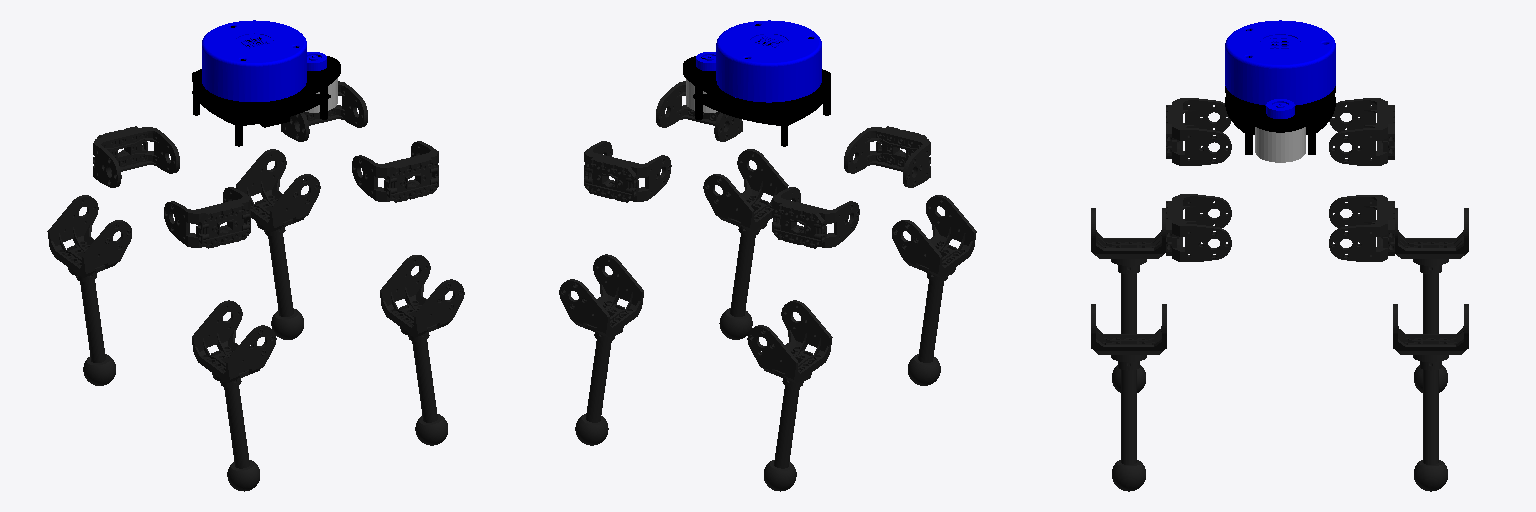
--- What the picture shows (computed from the rendered views, not written in the file) ---
The picture shows the robot from 3 angles, left to right: view 1: azimuth 30°, elevation 25°; view 2: azimuth 150°, elevation 25°; view 3: azimuth 270°, elevation 25°; orthographic projection.
Model anggada with 24 links and 23 joints (12 revolute, 11 fixed), rooted at base_link, posed every joint at zero.
Visible links, largest first — view 1: lidar_frame, rf_lower_leg_link, lh_lower_leg_link, rh_lower_leg_link, lf_lower_leg_link, lh_hip_link, rf_hip_link, rh_hip_link, lf_hip_link; view 2: lidar_frame, lf_lower_leg_link, rh_lower_leg_link, lh_lower_leg_link, rf_lower_leg_link, lf_hip_link, rh_hip_link, lh_hip_link, rf_hip_link; view 3: lidar_frame, lf_lower_leg_link, rf_lower_leg_link, lf_hip_link, rf_hip_link, lh_hip_link, rh_hip_link, rh_lower_leg_link, lh_lower_leg_link.
Link boxes in pixels (x1,y1,x2,y2): lidar_frame: [192, 20, 340, 146]; rf_lower_leg_link: [380, 255, 464, 445]; lh_lower_leg_link: [47, 195, 131, 385]; rh_lower_leg_link: [192, 300, 276, 491]; lf_lower_leg_link: [236, 149, 320, 339]; lh_hip_link: [93, 126, 179, 187]; rf_hip_link: [352, 141, 438, 202]; rh_hip_link: [164, 187, 250, 248]; lf_hip_link: [281, 81, 367, 141]; lidar_frame: [683, 20, 830, 146]; lf_lower_leg_link: [559, 254, 643, 445]; rh_lower_leg_link: [892, 195, 976, 385]; lh_lower_leg_link: [747, 300, 832, 491]; rf_lower_leg_link: [703, 149, 788, 339]; lf_hip_link: [584, 141, 671, 202]; rh_hip_link: [844, 126, 930, 187]; lh_hip_link: [772, 187, 859, 248]; rf_hip_link: [656, 81, 742, 141]; lidar_frame: [1225, 20, 1335, 162]; lf_lower_leg_link: [1393, 304, 1468, 491]; rf_lower_leg_link: [1091, 304, 1166, 491]; lf_hip_link: [1329, 195, 1394, 261]; rf_hip_link: [1166, 194, 1231, 261]; lh_hip_link: [1329, 98, 1394, 165]; rh_hip_link: [1166, 98, 1231, 165]; rh_lower_leg_link: [1091, 208, 1165, 392]; lh_lower_leg_link: [1395, 208, 1468, 392].
Size in the robot's own frame: 0.1949 by 0.2395 by 0.2745 metres.
9 mesh visuals loaded from 6 distinct referenced files (3 Collada DAE); not drawn: 5 (reference not matched to a file when rendering).

The robot description file, URDF, robot "anggada":
<?xml version="1.0" encoding="utf-8"?>
<!-- =================================================================================== -->
<!-- |    This document was autogenerated by xacro from anggada.urdf.xacro             | -->
<!-- |    EDITING THIS FILE BY HAND IS NOT RECOMMENDED                                 | -->
<!-- =================================================================================== -->
<robot name="anggada">
  <material name="black">
    <color rgba="0.15 0.15 0.15 1.0"/>
  </material>
  <link name="base_link">
    <collision>
      <origin rpy="0 0 0" xyz="0 0 0"/>
      <geometry>
        <mesh filename="package://anggada_description/meshes/base.dae"/>
      </geometry>
    </collision>
    <visual>
      <origin rpy="0 0 0" xyz="0 0 0"/>
      <geometry>
        <mesh filename="package://anggada_description/meshes/base.dae"/>
      </geometry>
      <material name="black"/>
    </visual>
  </link>
  <link name="base_inertia">
    <inertial>
      <origin xyz="0 0 0"/>
      <mass value="0.4"/>
      <inertia ixx="0.00144546666667" ixy="0.0" ixz="0.0" iyy="0.00172213333333" iyz="0.0" izz="0.000500933333333"/>
    </inertial>
  </link>
  <joint name="base_link_to_base_inertia" type="fixed">
    <parent link="base_link"/>
    <child link="base_inertia"/>
    <origin rpy="0 0 0" xyz="0 0 0"/>
  </joint>
  <gazebo reference="base_link">
    <material>Gazebo/FlatBlack</material>
  </gazebo>
  <!-- Init colour -->
  <material name="dark">
    <color rgba="0.3 0.3 0.3 1.0"/>
  </material>
  <material name="light_black">
    <color rgba="0.4 0.4 0.4 1.0"/>
  </material>
  <material name="blue">
    <color rgba="0.0 0.0 0.8 1.0"/>
  </material>
  <material name="green">
    <color rgba="0.0 0.8 0.0 1.0"/>
  </material>
  <material name="grey">
    <color rgba="0.5 0.5 0.5 1.0"/>
  </material>
  <material name="orange">
    <color rgba="1.0 0.423529411765 0.0392156862745 1.0"/>
  </material>
  <material name="brown">
    <color rgba="0.870588235294 0.811764705882 0.764705882353 1.0"/>
  </material>
  <material name="red">
    <color rgba="0.8 0.0 0.0 1.0"/>
  </material>
  <material name="white">
    <color rgba="1.0 1.0 1.0 1.0"/>
  </material>
  <gazebo reference="lidar_frame">
    <material>Gazebo/FlatBlack</material>
    <sensor name="rplidar_a1m8" type="ray">
      <pose>0 0 0 0 0 0</pose>
      <visualize>true</visualize>
      <update_rate>5.5</update_rate>
      <ray>
        <scan>
          <horizontal>
            <samples>8000</samples>
            <resolution>0</resolution>
            <min_angle>0.0</min_angle>
            <max_angle>6.28319</max_angle>
          </horizontal>
        </scan>
        <range>
          <min>0.150</min>
          <max>10</max>
          <resolution>0.02</resolution>
        </range>
        <noise>
          <type>gaussian</type>
          <mean>0.0</mean>
          <stddev>0.01</stddev>
        </noise>
      </ray>
      <plugin filename="libgazebo_ros_laser.so" name="gazebo_ros_rplidar_a1m8">
        <topicName>scan</topicName>
        <frameName>lidar_frame</frameName>
      </plugin>
    </sensor>
  </gazebo>
  <joint name="scan_joint" type="fixed">
    <parent link="base_link"/>
    <child link="lidar_frame"/>
    <origin rpy="0 0 0" xyz="0 0 0.077"/>
  </joint>
  <link name="lidar_frame">
    <visual>
      <origin rpy="0 0 0" xyz="0 0 -0.077"/>
      <geometry>
        <mesh filename="package://anggada_description/meshes/ydlidar_x4.dae"/>
      </geometry>
    </visual>
    <collision>
      <origin rpy="0 0 0" xyz="-0.007 0 0"/>
      <geometry>
        <cylinder length="0.0315" radius="0.035"/>
      </geometry>
      <material name="dark"/>
    </collision>
    <inertial>
      <mass value="0.114"/>
      <origin xyz="0 0 0"/>
      <inertia ixx="0.001" ixy="0.0" ixz="0.0" iyy="0.001" iyz="0.0" izz="0.001"/>
    </inertial>
  </link>
  <gazebo>
    <plugin filename="libhector_gazebo_ros_imu.so" name="imu_controller">
      <robotNamespace>/</robotNamespace>
      <updateRate>50.0</updateRate>
      <bodyName>imu_link</bodyName>
      <topicName>imu/data</topicName>
      <accelDrift>0.005 0.005 0.005</accelDrift>
      <accelGaussianNoise>0.005 0.005 0.005</accelGaussianNoise>
      <rateDrift>0.005 0.005 0.005 </rateDrift>
      <rateGaussianNoise>0.005 0.005 0.005 </rateGaussianNoise>
      <headingDrift>0.005</headingDrift>
      <headingGaussianNoise>0.005</headingGaussianNoise>
    </plugin>
  </gazebo>
  <link name="imu_link">
    <inertial>
      <mass value="0.001"/>
      <origin rpy="0 0 0" xyz="0 0 0"/>
      <inertia ixx="1e-09" ixy="0.0" ixz="0.0" iyy="1e-09" iyz="0.0" izz="1e-09"/>
    </inertial>
  </link>
  <joint name="imu_joint" type="fixed">
    <parent link="base_link"/>
    <child link="imu_link"/>
  </joint>
  <link name="lf_hip_debug_link"/>
  <link name="lf_hip_link">
    <inertial>
      <mass value="0.01"/>
      <inertia ixx="3.39541666667e-06" ixy="0.0" ixz="0.0" iyy="2.48104166667e-06" iyz="0.0" izz="1.95604166667e-06"/>
    </inertial>
    <collision>
      <origin rpy="0 0 -3.14159" xyz="0 0 0"/>
      <geometry>
        <mesh filename="package://anggada_description/meshes/hip.dae"/>
      </geometry>
    </collision>
    <visual>
      <origin rpy="0 0 -3.14159" xyz="0 0 0"/>
      <geometry>
        <mesh filename="package://anggada_description/meshes/hip.dae"/>
      </geometry>
      <material name="black"/>
    </visual>
  </link>
  <gazebo reference="lf_hip_link">
    <material>Gazebo/FlatBlack</material>
  </gazebo>
  <link name="lf_upper_leg_link">
    <inertial>
      <origin xyz="0 0 -0.03225"/>
      <mass value="0.12"/>
      <inertia ixx="9.51641e-05" ixy="0.0" ixz="0.0" iyy="4.27241e-05" iyz="0.0" izz="0.00010244"/>
    </inertial>
    <collision>
      <origin rpy="0 0 0" xyz="0 0 0"/>
      <geometry>
        <mesh filename="package://anggada_description/meshes/left_upper_leg.dae"/>
      </geometry>
    </collision>
    <visual>
      <origin rpy="0 0 0" xyz="0 0 0"/>
      <geometry>
        <mesh filename="package://anggada_description/meshes/left_upper_leg.dae"/>
      </geometry>
      <material name="black"/>
    </visual>
  </link>
  <gazebo reference="lf_upper_leg_link">
    <material>Gazebo/FlatBlack</material>
  </gazebo>
  <link name="lf_lower_leg_link">
    <inertial>
      <origin xyz="0 0 -0.09285"/>
      <mass value="0.049"/>
      <inertia ixx="1.10768807633e-05" ixy="0.0" ixz="0.0" iyy="1.59212841667e-05" iyz="0.0" izz="6.33576326333e-06"/>
    </inertial>
    <collision>
      <origin rpy="0 0 0" xyz="0 0 0"/>
      <geometry>
        <mesh filename="package://anggada_description/meshes/lower_leg.dae"/>
      </geometry>
    </collision>
    <visual>
      <origin rpy="0 0 0" xyz="0 0 0"/>
      <geometry>
        <mesh filename="package://anggada_description/meshes/lower_leg.dae"/>
      </geometry>
      <material name="black"/>
    </visual>
  </link>
  <gazebo reference="lf_lower_leg_link">
    <kp>1000000.0</kp>
    <kd>1.0</kd>
    <mu1>0.8</mu1>
    <mu2>0.8</mu2>
    <maxVel>0.0</maxVel>
    <minDepth>0.001</minDepth>
    <material>Gazebo/FlatBlack</material>
  </gazebo>
  <link name="lf_foot_link"/>
  <joint name="lf_debug_joint" type="fixed">
    <parent link="base_link"/>
    <child link="lf_hip_debug_link"/>
    <origin rpy="0 0 0" xyz="0.074 0.04177 0"/>
  </joint>
  <joint name="lf_hip_joint" type="revolute">
    <axis xyz="1 0 0"/>
    <limit effort="25" lower="-0.68" upper="0.68" velocity="1.5"/>
    <parent link="base_link"/>
    <child link="lf_hip_link"/>
    <origin rpy="0 0 0" xyz="0.074 0.04177 0"/>
  </joint>
  <joint name="lf_upper_leg_joint" type="revolute">
    <axis xyz="0 1 0"/>
    <limit effort="25" lower="-3.14159265359" upper="3.14159265359" velocity="1.5"/>
    <parent link="lf_hip_link"/>
    <child link="lf_upper_leg_link"/>
    <origin rpy="0 0 0" xyz="0 0.052 0"/>
  </joint>
  <joint name="lf_lower_leg_joint" type="revolute">
    <axis xyz="0 1 0"/>
    <limit effort="25" lower="-2.84" upper="0.54" velocity="1.5"/>
    <parent link="lf_upper_leg_link"/>
    <child link="lf_lower_leg_link"/>
    <origin rpy="0 0 0" xyz="0 0.0015 -0.0645"/>
  </joint>
  <joint name="lf_foot_joint" type="fixed">
    <parent link="lf_lower_leg_link"/>
    <child link="lf_foot_link"/>
    <origin rpy="0 0 0" xyz="0 0 -0.118"/>
  </joint>
  <transmission name="lf_hip_joint_trans">
    <type>transmission_interface/SimpleTransmission</type>
    <joint name="lf_hip_joint">
      <hardwareInterface>hardware_interface/EffortJointInterface</hardwareInterface>
    </joint>
    <actuator name="lf_hip_joint_motor">
      <hardwareInterface>hardware_interface/EffortJointInterface</hardwareInterface>
      <mechanicalReduction>1</mechanicalReduction>
    </actuator>
  </transmission>
  <transmission name="lf_upper_leg_joint_trans">
    <type>transmission_interface/SimpleTransmission</type>
    <joint name="lf_upper_leg_joint">
      <hardwareInterface>hardware_interface/EffortJointInterface</hardwareInterface>
    </joint>
    <actuator name="lf_upper_leg_joint_motor">
      <hardwareInterface>hardware_interface/EffortJointInterface</hardwareInterface>
      <mechanicalReduction>1</mechanicalReduction>
    </actuator>
  </transmission>
  <transmission name="lf_lower_leg_joint_trans">
    <type>transmission_interface/SimpleTransmission</type>
    <joint name="lf_lower_leg_joint">
      <hardwareInterface>hardware_interface/EffortJointInterface</hardwareInterface>
    </joint>
    <actuator name="lf_lower_joint_motor">
      <hardwareInterface>hardware_interface/EffortJointInterface</hardwareInterface>
      <mechanicalReduction>1</mechanicalReduction>
    </actuator>
  </transmission>
  <link name="lh_hip_debug_link"/>
  <link name="lh_hip_link">
    <inertial>
      <mass value="0.01"/>
      <inertia ixx="3.39541666667e-06" ixy="0.0" ixz="0.0" iyy="2.48104166667e-06" iyz="0.0" izz="1.95604166667e-06"/>
    </inertial>
    <collision>
      <origin rpy="0 0 -3.14159" xyz="0 0 0"/>
      <geometry>
        <mesh filename="package://anggada_description/meshes/hip.dae"/>
      </geometry>
    </collision>
    <visual>
      <origin rpy="0 0 -3.14159" xyz="0 0 0"/>
      <geometry>
        <mesh filename="package://anggada_description/meshes/hip.dae"/>
      </geometry>
      <material name="black"/>
    </visual>
  </link>
  <gazebo reference="lh_hip_link">
    <material>Gazebo/FlatBlack</material>
  </gazebo>
  <link name="lh_upper_leg_link">
    <inertial>
      <origin xyz="0 0 -0.03225"/>
      <mass value="0.12"/>
      <inertia ixx="9.51641e-05" ixy="0.0" ixz="0.0" iyy="4.27241e-05" iyz="0.0" izz="0.00010244"/>
    </inertial>
    <collision>
      <origin rpy="0 0 0" xyz="0 0 0"/>
      <geometry>
        <mesh filename="package://anggada_description/meshes/left_upper_leg.dae"/>
      </geometry>
    </collision>
    <visual>
      <origin rpy="0 0 0" xyz="0 0 0"/>
      <geometry>
        <mesh filename="package://anggada_description/meshes/left_upper_leg.dae"/>
      </geometry>
      <material name="black"/>
    </visual>
  </link>
  <gazebo reference="lh_upper_leg_link">
    <material>Gazebo/FlatBlack</material>
  </gazebo>
  <link name="lh_lower_leg_link">
    <inertial>
      <origin xyz="0 0 -0.09285"/>
      <mass value="0.049"/>
      <inertia ixx="1.10768807633e-05" ixy="0.0" ixz="0.0" iyy="1.59212841667e-05" iyz="0.0" izz="6.33576326333e-06"/>
    </inertial>
    <collision>
      <origin rpy="0 0 0" xyz="0 0 0"/>
      <geometry>
        <mesh filename="package://anggada_description/meshes/lower_leg.dae"/>
      </geometry>
    </collision>
    <visual>
      <origin rpy="0 0 0" xyz="0 0 0"/>
      <geometry>
        <mesh filename="package://anggada_description/meshes/lower_leg.dae"/>
      </geometry>
      <material name="black"/>
    </visual>
  </link>
  <gazebo reference="lh_lower_leg_link">
    <kp>1000000.0</kp>
    <kd>1.0</kd>
    <mu1>0.8</mu1>
    <mu2>0.8</mu2>
    <maxVel>0.0</maxVel>
    <minDepth>0.001</minDepth>
    <material>Gazebo/FlatBlack</material>
  </gazebo>
  <link name="lh_foot_link"/>
  <joint name="lh_debug_joint" type="fixed">
    <parent link="base_link"/>
    <child link="lh_hip_debug_link"/>
    <origin rpy="0 0 0" xyz="-0.07 0.04177 0"/>
  </joint>
  <joint name="lh_hip_joint" type="revolute">
    <axis xyz="1 0 0"/>
    <limit effort="25" lower="-0.68" upper="0.68" velocity="1.5"/>
    <parent link="base_link"/>
    <child link="lh_hip_link"/>
    <origin rpy="0 0 0" xyz="-0.07 0.04177 0"/>
  </joint>
  <joint name="lh_upper_leg_joint" type="revolute">
    <axis xyz="0 1 0"/>
    <limit effort="25" lower="-3.14159265359" upper="3.14159265359" velocity="1.5"/>
    <parent link="lh_hip_link"/>
    <child link="lh_upper_leg_link"/>
    <origin rpy="0 0 0" xyz="0 0.052 0"/>
  </joint>
  <joint name="lh_lower_leg_joint" type="revolute">
    <axis xyz="0 1 0"/>
    <limit effort="25" lower="-2.84" upper="0.54" velocity="1.5"/>
    <parent link="lh_upper_leg_link"/>
    <child link="lh_lower_leg_link"/>
    <origin rpy="0 0 0" xyz="0 0.0015 -0.0645"/>
  </joint>
  <joint name="lh_foot_joint" type="fixed">
    <parent link="lh_lower_leg_link"/>
    <child link="lh_foot_link"/>
    <origin rpy="0 0 0" xyz="0 0 -0.118"/>
  </joint>
  <transmission name="lh_hip_joint_trans">
    <type>transmission_interface/SimpleTransmission</type>
    <joint name="lh_hip_joint">
      <hardwareInterface>hardware_interface/EffortJointInterface</hardwareInterface>
    </joint>
    <actuator name="lh_hip_joint_motor">
      <hardwareInterface>hardware_interface/EffortJointInterface</hardwareInterface>
      <mechanicalReduction>1</mechanicalReduction>
    </actuator>
  </transmission>
  <transmission name="lh_upper_leg_joint_trans">
    <type>transmission_interface/SimpleTransmission</type>
    <joint name="lh_upper_leg_joint">
      <hardwareInterface>hardware_interface/EffortJointInterface</hardwareInterface>
    </joint>
    <actuator name="lh_upper_leg_joint_motor">
      <hardwareInterface>hardware_interface/EffortJointInterface</hardwareInterface>
      <mechanicalReduction>1</mechanicalReduction>
    </actuator>
  </transmission>
  <transmission name="lh_lower_leg_joint_trans">
    <type>transmission_interface/SimpleTransmission</type>
    <joint name="lh_lower_leg_joint">
      <hardwareInterface>hardware_interface/EffortJointInterface</hardwareInterface>
    </joint>
    <actuator name="lh_lower_joint_motor">
      <hardwareInterface>hardware_interface/EffortJointInterface</hardwareInterface>
      <mechanicalReduction>1</mechanicalReduction>
    </actuator>
  </transmission>
  <link name="rf_hip_debug_link"/>
  <link name="rf_hip_link">
    <inertial>
      <mass value="0.01"/>
      <inertia ixx="3.39541666667e-06" ixy="0.0" ixz="0.0" iyy="2.48104166667e-06" iyz="0.0" izz="1.95604166667e-06"/>
    </inertial>
    <collision>
      <origin rpy="0 0 0" xyz="0 0 0"/>
      <geometry>
        <mesh filename="package://anggada_description/meshes/hip.dae"/>
      </geometry>
    </collision>
    <visual>
      <origin rpy="0 0 0" xyz="0 0 0"/>
      <geometry>
        <mesh filename="package://anggada_description/meshes/hip.dae"/>
      </geometry>
      <material name="black"/>
    </visual>
  </link>
  <gazebo reference="rf_hip_link">
    <material>Gazebo/FlatBlack</material>
  </gazebo>
  <link name="rf_upper_leg_link">
    <inertial>
      <origin xyz="0 0 -0.03225"/>
      <mass value="0.12"/>
      <inertia ixx="9.51641e-05" ixy="0.0" ixz="0.0" iyy="4.27241e-05" iyz="0.0" izz="0.00010244"/>
    </inertial>
    <collision>
      <origin rpy="0 0 0" xyz="0 0 0"/>
      <geometry>
        <mesh filename="package://anggada_description/meshes/right_upper_leg.dae"/>
      </geometry>
    </collision>
    <visual>
      <origin rpy="0 0 0" xyz="0 0 0"/>
      <geometry>
        <mesh filename="package://anggada_description/meshes/right_upper_leg.dae"/>
      </geometry>
      <material name="black"/>
    </visual>
  </link>
  <gazebo reference="rf_upper_leg_link">
    <material>Gazebo/FlatBlack</material>
  </gazebo>
  <link name="rf_lower_leg_link">
    <inertial>
      <origin xyz="0 0 -0.09285"/>
      <mass value="0.049"/>
      <inertia ixx="1.10768807633e-05" ixy="0.0" ixz="0.0" iyy="1.59212841667e-05" iyz="0.0" izz="6.33576326333e-06"/>
    </inertial>
    <collision>
      <origin rpy="0 0 0" xyz="0 0 0"/>
      <geometry>
        <mesh filename="package://anggada_description/meshes/lower_leg.dae"/>
      </geometry>
    </collision>
    <visual>
      <origin rpy="0 0 0" xyz="0 0 0"/>
      <geometry>
        <mesh filename="package://anggada_description/meshes/lower_leg.dae"/>
      </geometry>
      <material name="black"/>
    </visual>
  </link>
  <gazebo reference="rf_lower_leg_link">
    <kp>1000000.0</kp>
    <kd>1.0</kd>
    <mu1>0.8</mu1>
    <mu2>0.8</mu2>
    <maxVel>0.0</maxVel>
    <minDepth>0.001</minDepth>
    <material>Gazebo/FlatBlack</material>
  </gazebo>
  <link name="rf_foot_link"/>
  <joint name="rf_debug_joint" type="fixed">
    <parent link="base_link"/>
    <child link="rf_hip_debug_link"/>
    <origin rpy="0 0 0" xyz="0.074 -0.04177 0"/>
  </joint>
  <joint name="rf_hip_joint" type="revolute">
    <axis xyz="1 0 0"/>
    <limit effort="25" lower="-0.68" upper="0.68" velocity="1.5"/>
    <parent link="base_link"/>
    <child link="rf_hip_link"/>
    <origin rpy="0 0 0" xyz="0.074 -0.04177 0"/>
  </joint>
  <joint name="rf_upper_leg_joint" type="revolute">
    <axis xyz="0 1 0"/>
    <limit effort="25" lower="-3.14159265359" upper="3.14159265359" velocity="1.5"/>
    <parent link="rf_hip_link"/>
    <child link="rf_upper_leg_link"/>
    <origin rpy="0 0 0" xyz="0 -0.052 0"/>
  </joint>
  <joint name="rf_lower_leg_joint" type="revolute">
    <axis xyz="0 1 0"/>
    <limit effort="25" lower="-2.84" upper="0.54" velocity="1.5"/>
    <parent link="rf_upper_leg_link"/>
    <child link="rf_lower_leg_link"/>
    <origin rpy="0 0 0" xyz="0 -0.002 -0.0645"/>
  </joint>
  <joint name="rf_foot_joint" type="fixed">
    <parent link="rf_lower_leg_link"/>
    <child link="rf_foot_link"/>
    <origin rpy="0 0 0" xyz="0 0 -0.118"/>
  </joint>
  <transmission name="rf_hip_joint_trans">
    <type>transmission_interface/SimpleTransmission</type>
    <joint name="rf_hip_joint">
      <hardwareInterface>hardware_interface/EffortJointInterface</hardwareInterface>
    </joint>
    <actuator name="rf_hip_joint_motor">
      <hardwareInterface>hardware_interface/EffortJointInterface</hardwareInterface>
      <mechanicalReduction>1</mechanicalReduction>
    </actuator>
  </transmission>
  <transmission name="rf_upper_leg_joint_trans">
    <type>transmission_interface/SimpleTransmission</type>
    <joint name="rf_upper_leg_joint">
      <hardwareInterface>hardware_interface/EffortJointInterface</hardwareInterface>
    </joint>
    <actuator name="rf_upper_leg_joint_motor">
      <hardwareInterface>hardware_interface/EffortJointInterface</hardwareInterface>
      <mechanicalReduction>1</mechanicalReduction>
    </actuator>
  </transmission>
  <transmission name="rf_lower_leg_joint_trans">
    <type>transmission_interface/SimpleTransmission</type>
    <joint name="rf_lower_leg_joint">
      <hardwareInterface>hardware_interface/EffortJointInterface</hardwareInterface>
    </joint>
    <actuator name="rf_lower_joint_motor">
      <hardwareInterface>hardware_interface/EffortJointInterface</hardwareInterface>
      <mechanicalReduction>1</mechanicalReduction>
    </actuator>
  </transmission>
  <link name="rh_hip_debug_link"/>
  <link name="rh_hip_link">
    <inertial>
      <mass value="0.01"/>
      <inertia ixx="3.39541666667e-06" ixy="0.0" ixz="0.0" iyy="2.48104166667e-06" iyz="0.0" izz="1.95604166667e-06"/>
    </inertial>
    <collision>
      <origin rpy="0 0 0" xyz="0 0 0"/>
      <geometry>
        <mesh filename="package://anggada_description/meshes/hip.dae"/>
      </geometry>
    </collision>
    <visual>
      <origin rpy="0 0 0" xyz="0 0 0"/>
      <geometry>
        <mesh filename="package://anggada_description/meshes/hip.dae"/>
      </geometry>
      <material name="black"/>
    </visual>
  </link>
  <gazebo reference="rh_hip_link">
    <material>Gazebo/FlatBlack</material>
  </gazebo>
  <link name="rh_upper_leg_link">
    <inertial>
      <origin xyz="0 0 -0.03225"/>
      <mass value="0.12"/>
      <inertia ixx="9.51641e-05" ixy="0.0" ixz="0.0" iyy="4.27241e-05" iyz="0.0" izz="0.00010244"/>
    </inertial>
    <collision>
      <origin rpy="0 0 0" xyz="0 0 0"/>
      <geometry>
        <mesh filename="package://anggada_description/meshes/right_upper_leg.dae"/>
      </geometry>
    </collision>
    <visual>
      <origin rpy="0 0 0" xyz="0 0 0"/>
      <geometry>
        <mesh filename="package://anggada_description/meshes/right_upper_leg.dae"/>
      </geometry>
      <material name="black"/>
    </visual>
  </link>
  <gazebo reference="rh_upper_leg_link">
    <material>Gazebo/FlatBlack</material>
  </gazebo>
  <link name="rh_lower_leg_link">
    <inertial>
      <origin xyz="0 0 -0.09285"/>
      <mass value="0.049"/>
      <inertia ixx="1.10768807633e-05" ixy="0.0" ixz="0.0" iyy="1.59212841667e-05" iyz="0.0" izz="6.33576326333e-06"/>
    </inertial>
    <collision>
      <origin rpy="0 0 0" xyz="0 0 0"/>
      <geometry>
        <mesh filename="package://anggada_description/meshes/lower_leg.dae"/>
      </geometry>
    </collision>
    <visual>
      <origin rpy="0 0 0" xyz="0 0 0"/>
      <geometry>
        <mesh filename="package://anggada_description/meshes/lower_leg.dae"/>
      </geometry>
      <material name="black"/>
    </visual>
  </link>
  <gazebo reference="rh_lower_leg_link">
    <kp>1000000.0</kp>
    <kd>1.0</kd>
    <mu1>0.8</mu1>
    <mu2>0.8</mu2>
    <maxVel>0.0</maxVel>
    <minDepth>0.001</minDepth>
    <material>Gazebo/FlatBlack</material>
  </gazebo>
  <link name="rh_foot_link"/>
  <joint name="rh_debug_joint" type="fixed">
    <parent link="base_link"/>
    <child link="rh_hip_debug_link"/>
    <origin rpy="0 0 0" xyz="-0.07 -0.04177 0"/>
  </joint>
  <joint name="rh_hip_joint" type="revolute">
    <axis xyz="1 0 0"/>
    <limit effort="25" lower="-0.68" upper="0.68" velocity="1.5"/>
    <parent link="base_link"/>
    <child link="rh_hip_link"/>
    <origin rpy="0 0 0" xyz="-0.07 -0.04177 0"/>
  </joint>
  <joint name="rh_upper_leg_joint" type="revolute">
    <axis xyz="0 1 0"/>
    <limit effort="25" lower="-3.14159265359" upper="3.14159265359" velocity="1.5"/>
    <parent link="rh_hip_link"/>
    <child link="rh_upper_leg_link"/>
    <origin rpy="0 0 0" xyz="0 -0.052 0"/>
  </joint>
  <joint name="rh_lower_leg_joint" type="revolute">
    <axis xyz="0 1 0"/>
    <limit effort="25" lower="-2.84" upper="0.54" velocity="1.5"/>
    <parent link="rh_upper_leg_link"/>
    <child link="rh_lower_leg_link"/>
    <origin rpy="0 0 0" xyz="0 -0.002 -0.0645"/>
  </joint>
  <joint name="rh_foot_joint" type="fixed">
    <parent link="rh_lower_leg_link"/>
    <child link="rh_foot_link"/>
    <origin rpy="0 0 0" xyz="0 0 -0.118"/>
  </joint>
  <transmission name="rh_hip_joint_trans">
    <type>transmission_interface/SimpleTransmission</type>
    <joint name="rh_hip_joint">
      <hardwareInterface>hardware_interface/EffortJointInterface</hardwareInterface>
    </joint>
    <actuator name="rh_hip_joint_motor">
      <hardwareInterface>hardware_interface/EffortJointInterface</hardwareInterface>
      <mechanicalReduction>1</mechanicalReduction>
    </actuator>
  </transmission>
  <transmission name="rh_upper_leg_joint_trans">
    <type>transmission_interface/SimpleTransmission</type>
    <joint name="rh_upper_leg_joint">
      <hardwareInterface>hardware_interface/EffortJointInterface</hardwareInterface>
    </joint>
    <actuator name="rh_upper_leg_joint_motor">
      <hardwareInterface>hardware_interface/EffortJointInterface</hardwareInterface>
      <mechanicalReduction>1</mechanicalReduction>
    </actuator>
  </transmission>
  <transmission name="rh_lower_leg_joint_trans">
    <type>transmission_interface/SimpleTransmission</type>
    <joint name="rh_lower_leg_joint">
      <hardwareInterface>hardware_interface/EffortJointInterface</hardwareInterface>
    </joint>
    <actuator name="rh_lower_joint_motor">
      <hardwareInterface>hardware_interface/EffortJointInterface</hardwareInterface>
      <mechanicalReduction>1</mechanicalReduction>
    </actuator>
  </transmission>
  <gazebo>
    <plugin filename="libgazebo_ros_p3d.so" name="p3d_base_controller">
      <alwaysOn>true</alwaysOn>
      <updateRate>10.0</updateRate>
      <bodyName>base_link</bodyName>
      <topicName>odom/ground_truth</topicName>
      <gaussianNoise>0.01</gaussianNoise>
      <frameName>world</frameName>
      <xyzOffsets>0 0 0</xyzOffsets>
      <rpyOffsets>0 0 0</rpyOffsets>
    </plugin>
  </gazebo>
  <gazebo>
    <plugin filename="libgazebo_ros_control.so" name="gazebo_ros_control">
      <legacyModeNS>true</legacyModeNS>
    </plugin>
  </gazebo>
</robot>
